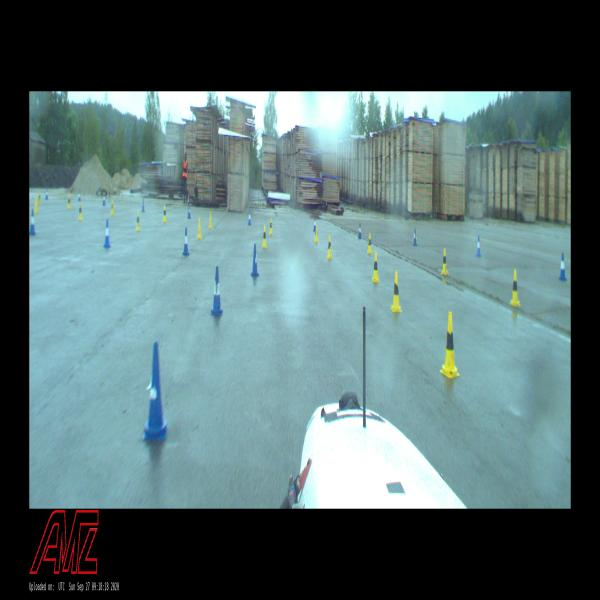blue_cone: (143, 342, 168, 440), (210, 266, 224, 316), (250, 244, 260, 276), (103, 219, 111, 248), (183, 227, 190, 256), (559, 254, 566, 280), (29, 209, 36, 235), (476, 235, 481, 256), (413, 228, 417, 245), (358, 223, 362, 238), (248, 210, 252, 225), (142, 198, 146, 212), (313, 216, 316, 231), (102, 194, 106, 204), (188, 205, 191, 218), (78, 190, 81, 202), (45, 189, 48, 200)
yellow_cone: (439, 312, 460, 378), (391, 270, 402, 312), (510, 269, 520, 306), (372, 251, 379, 282), (441, 248, 449, 274), (327, 235, 333, 259), (262, 225, 267, 248), (197, 218, 202, 239), (367, 233, 372, 253), (78, 202, 83, 220), (136, 210, 140, 229), (314, 224, 318, 243), (163, 205, 167, 222), (269, 218, 273, 235), (110, 200, 114, 215), (34, 198, 38, 213), (209, 211, 212, 228), (38, 193, 41, 204), (68, 195, 70, 209)
